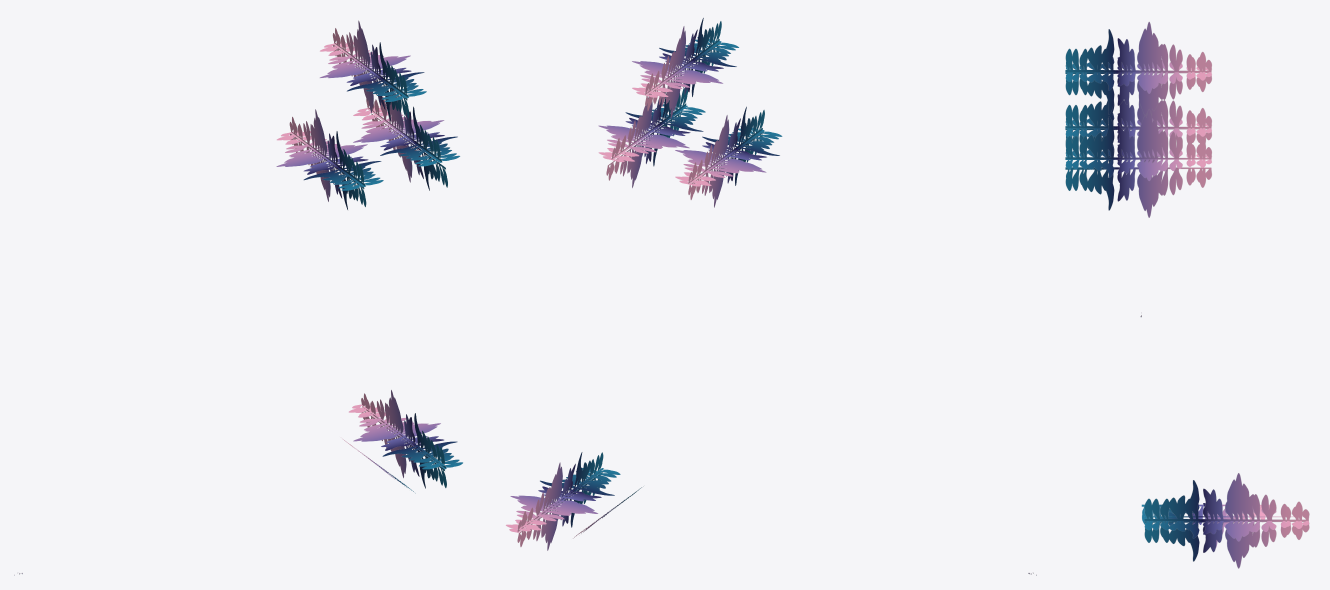
File: SM_haidai.glb
The picture shows the model from 3 angles, left to right: view 1: azimuth 30°, elevation 25°; view 2: azimuth 150°, elevation 25°; view 3: azimuth 270°, elevation 25°; orthographic projection. The views are drawn at different scales.
Visible parts, largest first — view 1: pPlane101, pPlane92, pPlane97, pPlane91, pPlane90, pPlane93, pPlane103, pPlane96, pPlane95, pPlane104, pPlane98, pPlane88 (+4 smaller); view 2: pPlane101, pPlane91, pPlane92, pPlane97, pPlane90, pPlane93, pPlane103, pPlane96, pPlane94, pPlane104, pPlane95, pPlane88 (+4 smaller); view 3: pPlane103, pPlane93, pPlane96, pPlane94, pPlane90, pPlane102, pPlane89, pPlane104, pPlane98, pPlane95, pPlane88, pPlane99 (+4 smaller).
Part boxes in pixels (bbox=[...]): pPlane101: bbox=[348, 404, 444, 469]; pPlane92: bbox=[276, 132, 363, 190]; pPlane97: bbox=[319, 43, 407, 101]; pPlane91: bbox=[353, 108, 441, 166]; pPlane90: bbox=[289, 109, 365, 186]; pPlane93: bbox=[332, 20, 408, 97]; pPlane103: bbox=[361, 390, 446, 468]; pPlane96: bbox=[366, 90, 441, 161]; pPlane95: bbox=[334, 42, 426, 98]; pPlane104: bbox=[365, 406, 462, 469]; pPlane98: bbox=[367, 106, 460, 162]; pPlane88: bbox=[290, 130, 383, 186]; pPlane101: bbox=[519, 468, 620, 531]; pPlane91: bbox=[612, 105, 705, 162]; pPlane92: bbox=[689, 130, 782, 186]; pPlane97: bbox=[645, 41, 739, 97]; pPlane90: bbox=[688, 106, 764, 183]; pPlane93: bbox=[645, 18, 721, 94]; pPlane103: bbox=[517, 452, 603, 531]; pPlane96: bbox=[611, 88, 687, 159]; pPlane94: bbox=[606, 111, 681, 187]; pPlane104: bbox=[506, 468, 601, 532]; pPlane95: bbox=[632, 37, 719, 95]; pPlane88: bbox=[675, 126, 763, 184]; pPlane103: bbox=[1144, 473, 1309, 520]; pPlane93: bbox=[1065, 22, 1211, 72]; pPlane96: bbox=[1065, 109, 1211, 159]; pPlane94: bbox=[1065, 167, 1211, 217]; pPlane90: bbox=[1065, 94, 1211, 128]; pPlane102: bbox=[1144, 521, 1309, 568]; pPlane89: bbox=[1065, 72, 1211, 115]; pPlane104: bbox=[1144, 521, 1309, 541]; pPlane98: bbox=[1065, 159, 1211, 180]; pPlane95: bbox=[1065, 72, 1211, 93]; pPlane88: bbox=[1065, 128, 1211, 142]; pPlane99: bbox=[1065, 128, 1211, 162].
Size of the model in its own units: 121 by 126 by 55.46.
1 material, 1 textured.
